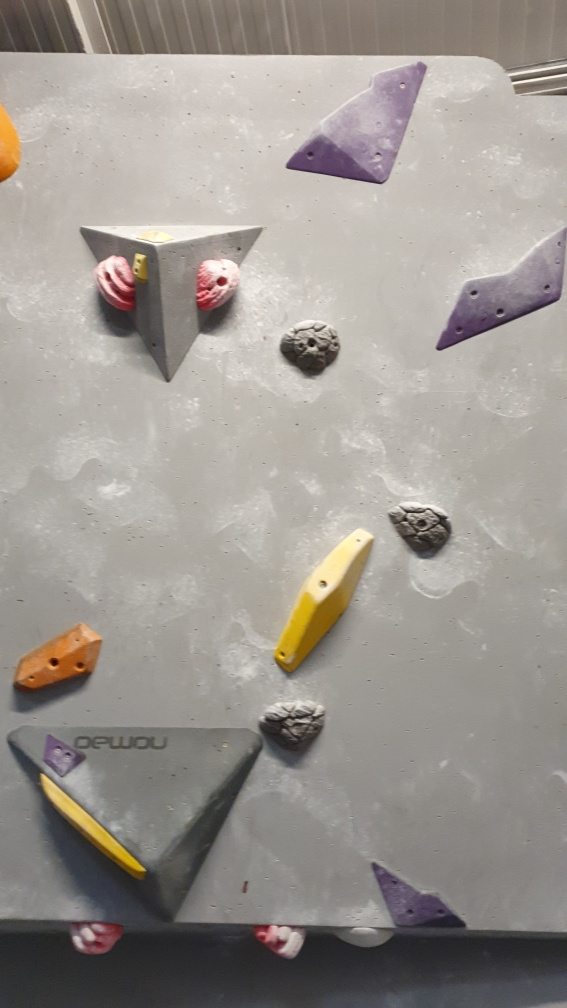Crimp: (40, 729, 87, 778)
Jug: (272, 317, 346, 379), (256, 698, 330, 757), (385, 497, 456, 556), (197, 254, 243, 312), (95, 253, 137, 313), (251, 923, 313, 963), (66, 920, 127, 957)
Pinch: (273, 527, 376, 680), (11, 619, 104, 701)
